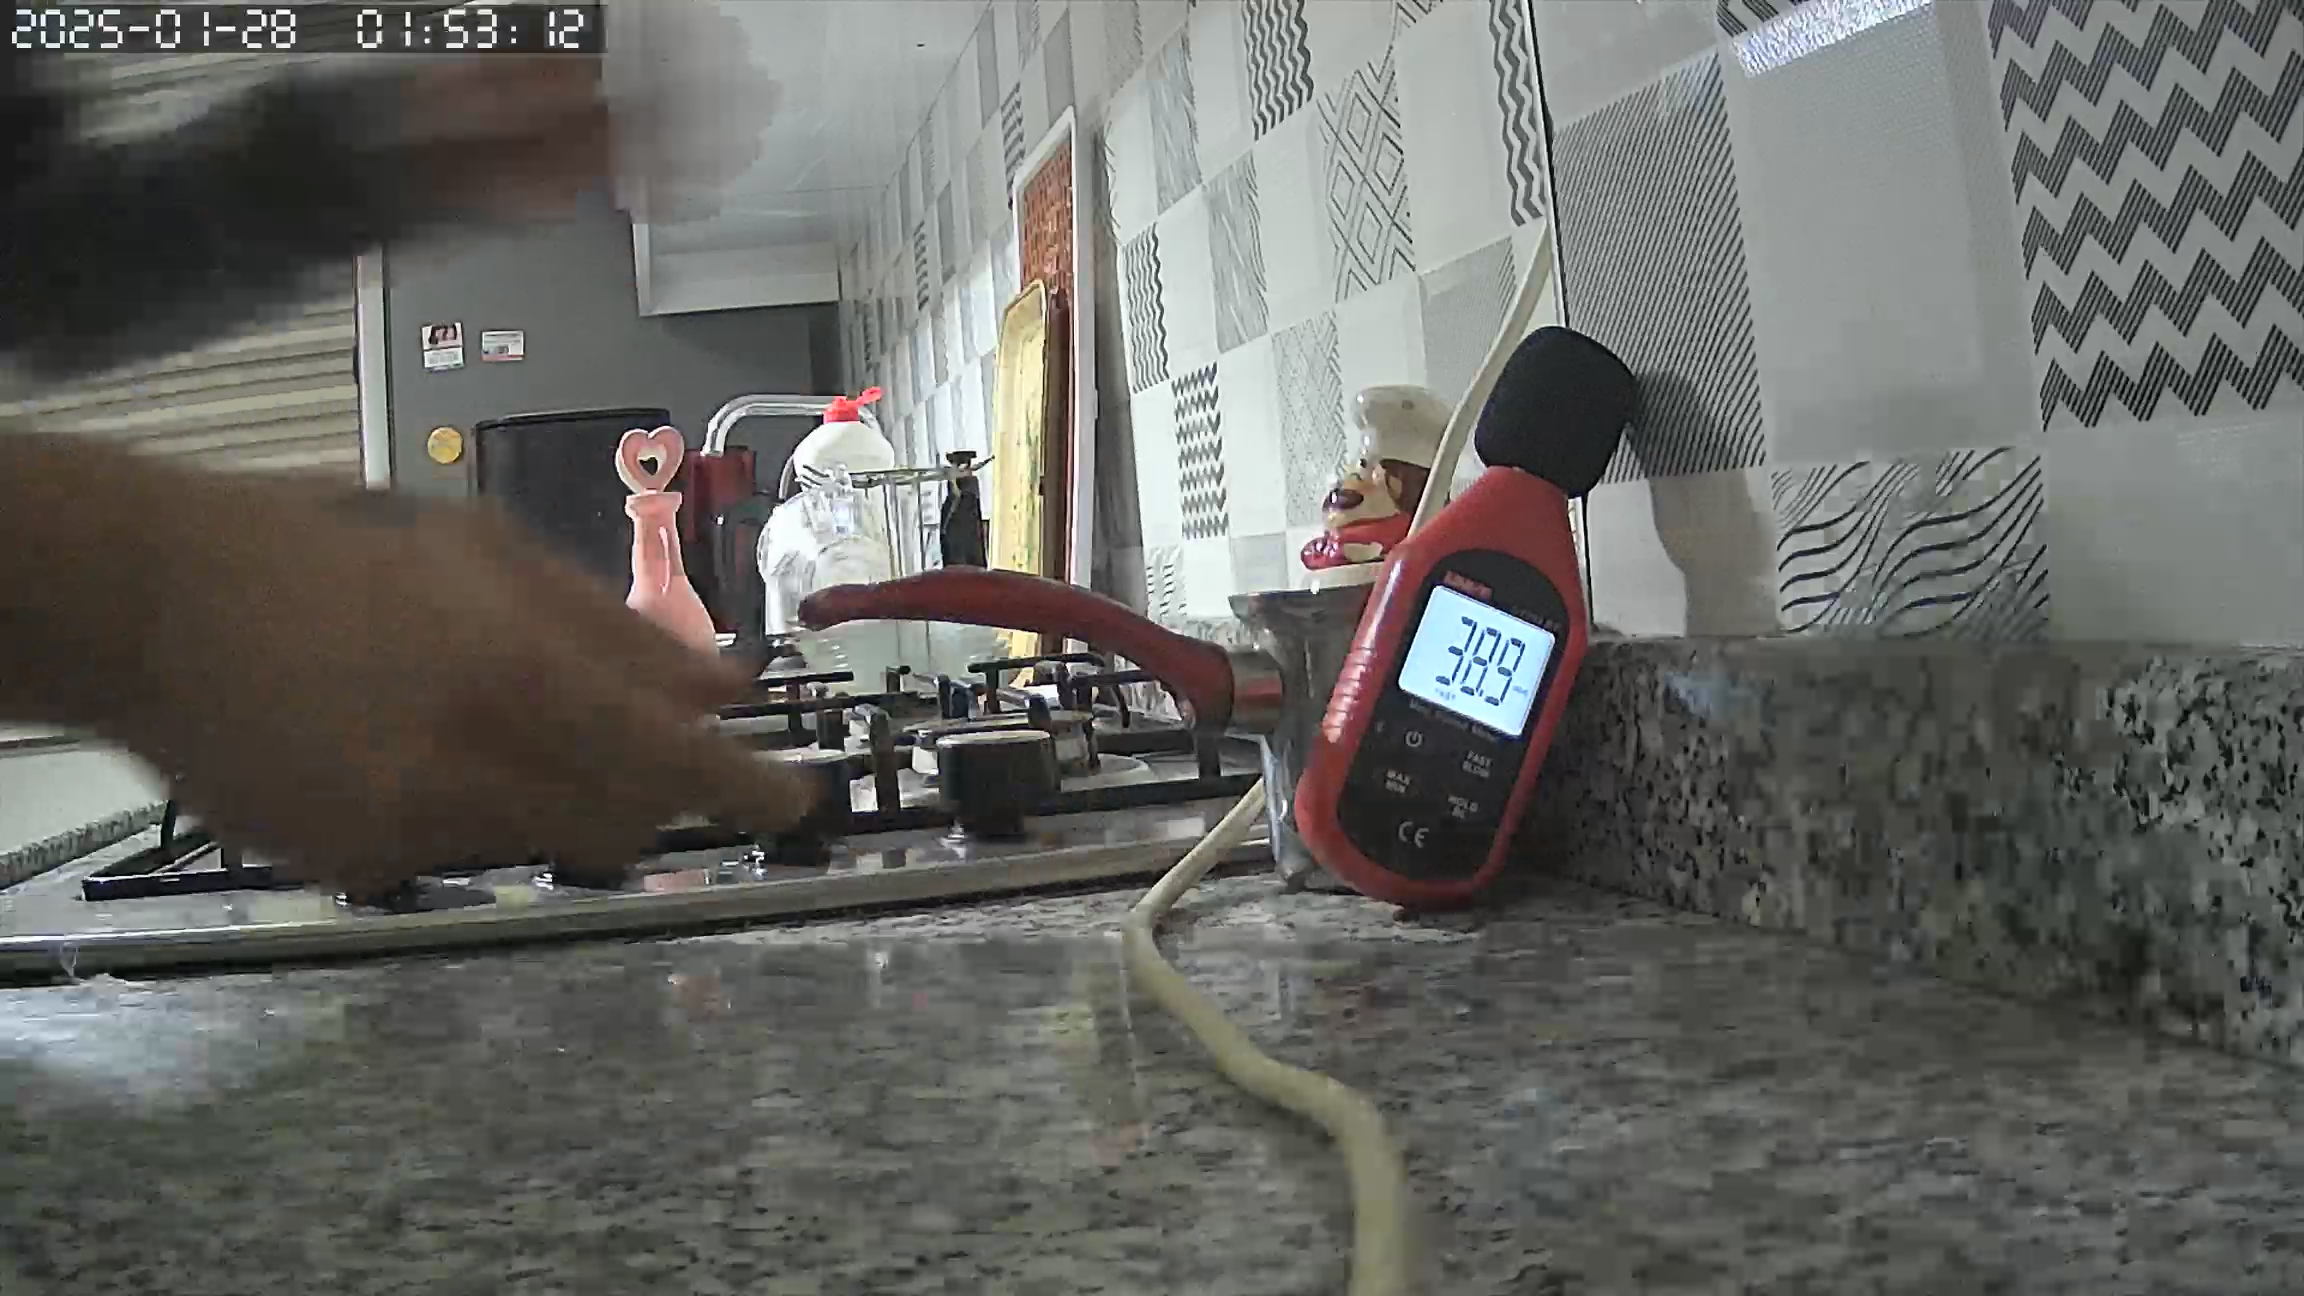screen: (1393, 584, 1556, 741)
